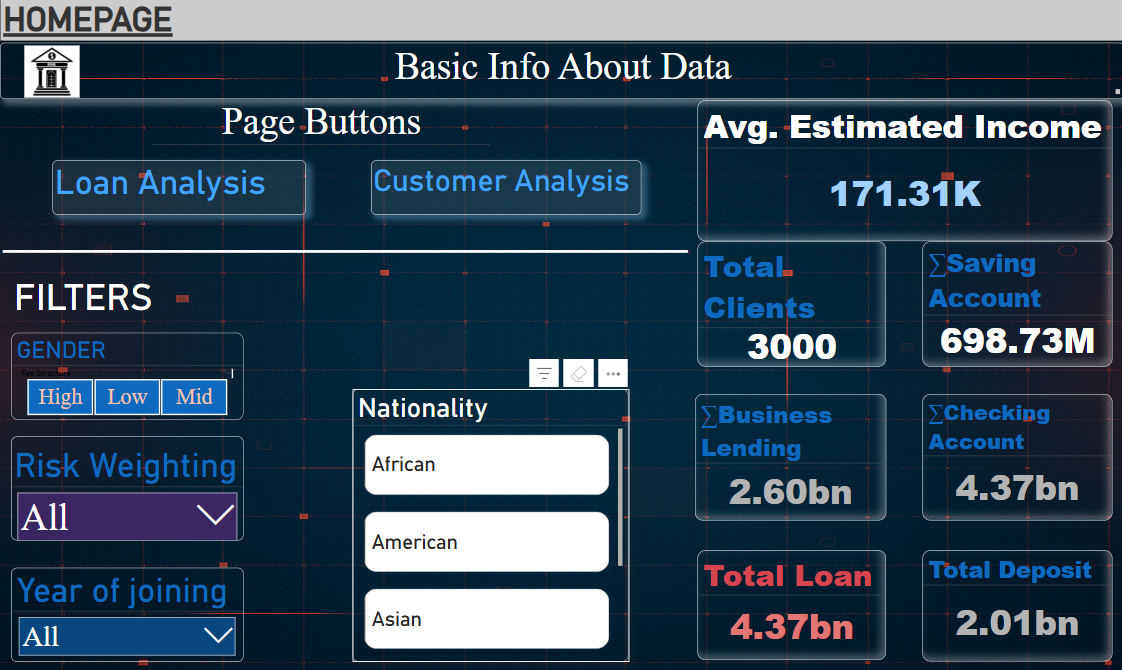

Layout of this report page (visuals, bound fields, positions):
{"tool":"powerbi","page":{"name":"Homepage","canvas":[2000,1200],"ordinal":0},"visuals":[{"type":"card","title":"Total Clients","fields":{"Values":["CountNonNull(Banking_Data_Jup.Client ID)"]},"box":[1240,430,335,222.5],"z":0},{"type":"card","title":"∑Saving Account","fields":{"Values":["Sum(Banking_Data_Jup.Saving Accounts)"]},"box":[1640,430,337.5,222.5],"z":1000},{"type":"card","title":"Total Deposit","fields":{"Values":["Sum(Banking_Data_Jup.Bank Deposits)"]},"box":[1640,980,337.5,197.5],"z":2000},{"type":"card","title":"∑Business Lending","fields":{"Values":["Sum(Banking_Data_Jup.Business Lending)"]},"box":[1235,702.5,340,225],"z":3000},{"type":"card","title":"∑Checking Account","fields":{"Values":["Sum(Banking_Data_Jup.Total Loan)"]},"box":[1640,702.5,337.5,225],"z":4000},{"type":"card","title":"Total Loan","fields":{"Values":["Sum(Banking_Data_Jup.Total Loan)"]},"box":[1240,980,335,195],"z":5000},{"type":"slicer","title":"GENDER","fields":{"Values":["Banking_Data_Jup.Fee Structure"]},"box":[20,592.5,412.5,155],"z":6000},{"type":"textbox","title":"Basic Info About Data","box":[0,77.5,2000,100],"z":7000},{"type":"textbox","title":"HOMEPAGE","box":[0,0,2000,76],"z":8000},{"type":"slicer","title":"Risk Weighting","fields":{"Values":["Banking_Data_Jup.New Risk Weighting (bins)"]},"box":[20,777.5,412.5,185],"z":9000},{"type":"slicer","title":"Year of joining","fields":{"Values":["Banking_Data_Jup.year of joining"]},"box":[20,1010,412.5,167.5],"z":10000},{"type":"image","box":[0,77.5,185,102.5],"z":11000},{"type":"advancedSlicerVisual","fields":{"Values":["Banking_Data_Jup.Nationality"]},"box":[627.5,692.5,490,485],"z":12000},{"type":"card","title":"Avg. Estimated Income","fields":{"Values":["Avg(Banking_Data_Jup.Estimated Income)"]},"box":[1240,180,737.5,250],"z":13000},{"type":"actionButton","title":"Loan Analysis","box":[93.3,286.7,450,96.7],"z":14000},{"type":"actionButton","title":"Customer Analysis","box":[660,286.7,480,96.7],"z":15000},{"type":"textbox","title":"Page Buttons","box":[270,180,600,106.7],"z":16000},{"type":"textbox","title":"FILTERS","box":[20,490,387.5,102.5],"z":17000},{"type":"textbox","title":"_____________________________________________","box":[0,383.3,1240,90],"z":18000}]}

Visuals, with their boxes on the page's 2000x1200 design canvas (x1, y1, x2, y2). These are canvas units, not pixel positions in the 1122x670 screenshot, which may show the page scaled, cropped or inside an application window:
"Total Clients" card: {"left": 1240, "top": 430, "right": 1575, "bottom": 652}
"∑Saving Account" card: {"left": 1640, "top": 430, "right": 1978, "bottom": 652}
"Total Deposit" card: {"left": 1640, "top": 980, "right": 1978, "bottom": 1178}
"∑Business Lending" card: {"left": 1235, "top": 702, "right": 1575, "bottom": 928}
"∑Checking Account" card: {"left": 1640, "top": 702, "right": 1978, "bottom": 928}
"Total Loan" card: {"left": 1240, "top": 980, "right": 1575, "bottom": 1175}
"GENDER" slicer: {"left": 20, "top": 592, "right": 432, "bottom": 748}
"Basic Info About Data" textbox: {"left": 0, "top": 78, "right": 2000, "bottom": 178}
"HOMEPAGE" textbox: {"left": 0, "top": 0, "right": 2000, "bottom": 76}
"Risk Weighting" slicer: {"left": 20, "top": 778, "right": 432, "bottom": 962}
"Year of joining" slicer: {"left": 20, "top": 1010, "right": 432, "bottom": 1178}
image: {"left": 0, "top": 78, "right": 185, "bottom": 180}
advancedSlicerVisual - Banking_Data_Jup.Nationality: {"left": 628, "top": 692, "right": 1118, "bottom": 1178}
"Avg. Estimated Income" card: {"left": 1240, "top": 180, "right": 1978, "bottom": 430}
"Loan Analysis" actionButton: {"left": 93, "top": 287, "right": 543, "bottom": 383}
"Customer Analysis" actionButton: {"left": 660, "top": 287, "right": 1140, "bottom": 383}
"Page Buttons" textbox: {"left": 270, "top": 180, "right": 870, "bottom": 287}
"FILTERS" textbox: {"left": 20, "top": 490, "right": 408, "bottom": 592}
"_____________________________________________" textbox: {"left": 0, "top": 383, "right": 1240, "bottom": 473}
